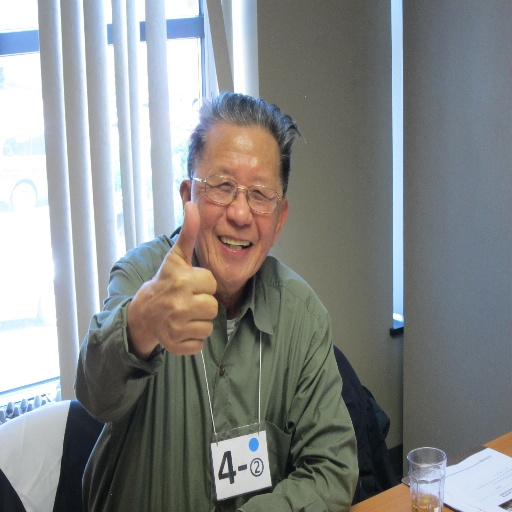hand: (135, 200, 217, 357)
